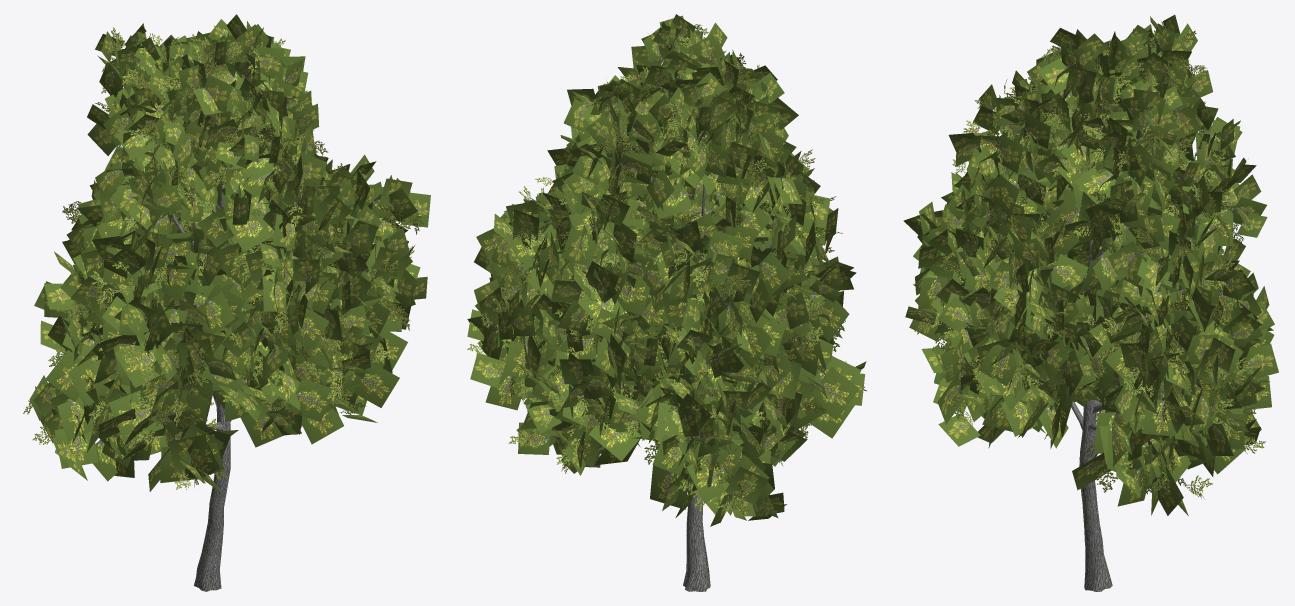
Rendered from European Linden.obj.
3 views of the same model, side by side, from view 1: azimuth 30°, elevation 25°; view 2: azimuth 150°, elevation 25°; view 3: azimuth 270°, elevation 25° (orthographic).
Parts seen in each view (by area): view 1: EuropeanLinden_Hero_26_Mesh.003; view 2: EuropeanLinden_Hero_26_Mesh.003; view 3: EuropeanLinden_Hero_26_Mesh.003.
Boxes of the visible parts, x1=… form: EuropeanLinden_Hero_26_Mesh.003: x1=23, y1=14, x2=430, y2=591; EuropeanLinden_Hero_26_Mesh.003: x1=467, y1=14, x2=866, y2=591; EuropeanLinden_Hero_26_Mesh.003: x1=903, y1=14, x2=1278, y2=591.
Size of the model in its own units: 1.99 by 3.15 by 1.9.
Materials: 4 (4 with a texture image).
